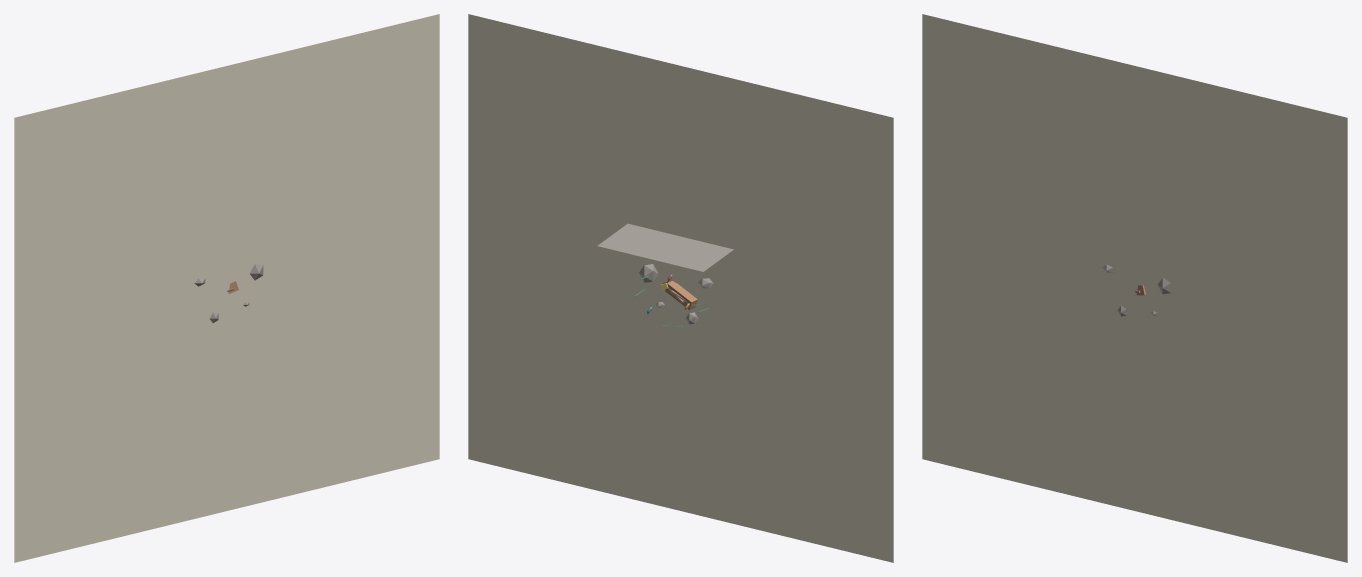
Rendered from wreck.dae.
The picture shows the model from 3 angles, left to right: view 1: azimuth 30°, elevation 25°; view 2: azimuth 150°, elevation 25°; view 3: azimuth 330°, elevation 25°; orthographic projection.
Visible parts, largest first — view 1: Seafloor; view 2: Seafloor, BackWall; view 3: Seafloor.
Part boxes in pixels (x1,y1,x2,y2): Seafloor: (14, 14, 439, 562); Seafloor: (468, 14, 893, 562); BackWall: (597, 223, 733, 271); Seafloor: (922, 14, 1347, 562).
Bounding box in the file's own units: 12 × 1.61 × 12.
